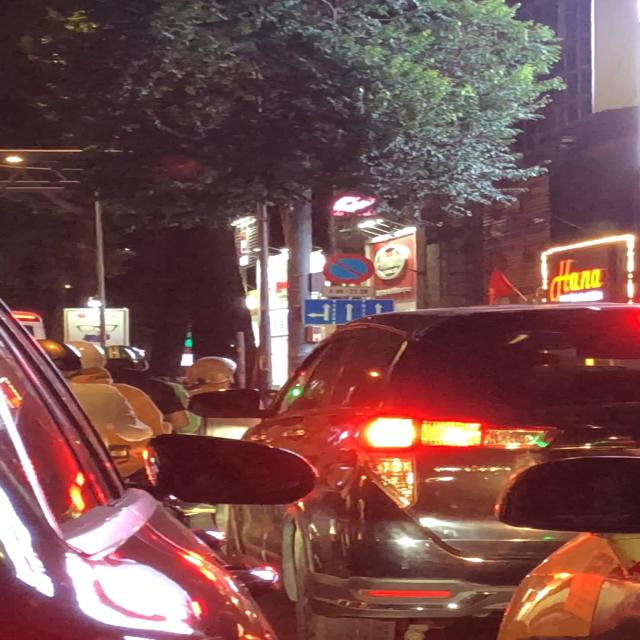Bien bao cam do xe: (321, 251, 378, 284)
